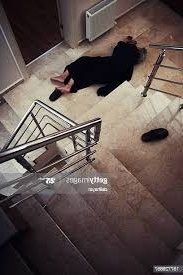fall: (44, 31, 149, 99)
